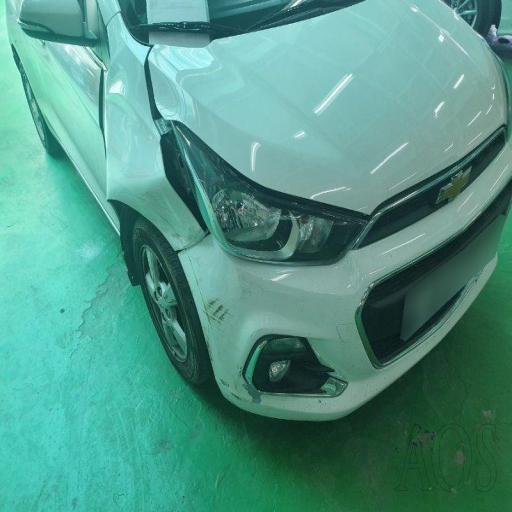broken: (81, 48, 302, 314)
